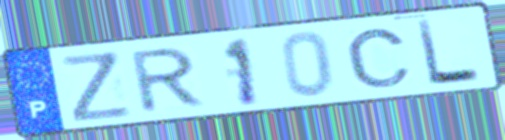0: (278, 29, 337, 101)
1: (219, 35, 264, 107)
C: (343, 26, 415, 90)
L: (413, 17, 484, 89)
R: (128, 44, 208, 116)
Z: (57, 49, 136, 125)
